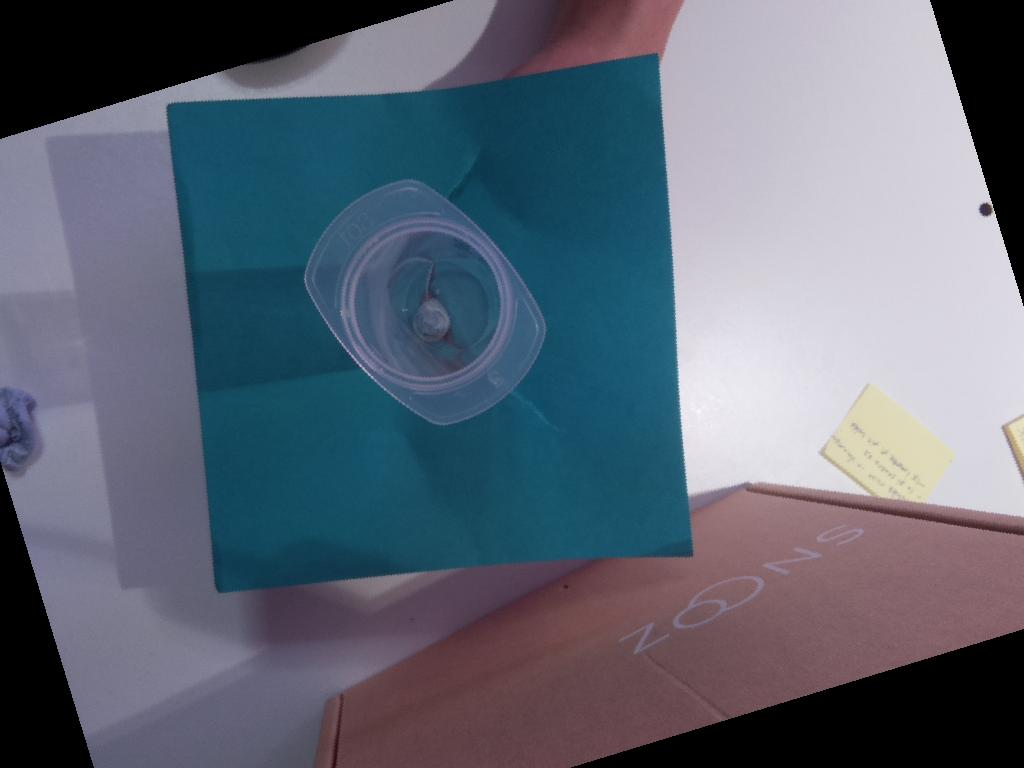clean: (297, 166, 552, 428)
